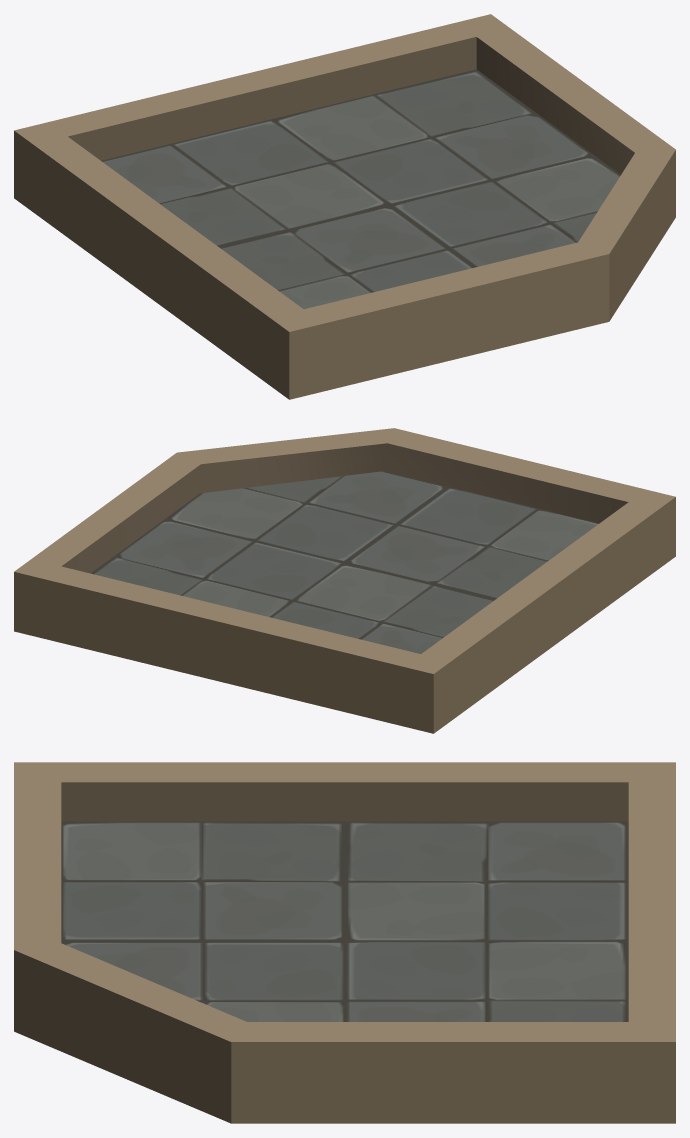
The model's file is RoofTop_B01.fbx.
3 views of the same model, one above another, from view 1: azimuth 30°, elevation 25°; view 2: azimuth 150°, elevation 25°; view 3: azimuth 270°, elevation 25° (orthographic). The views are drawn at different scales.
Parts seen in each view (by area): view 1: RoofTop_B01; view 2: RoofTop_B01; view 3: RoofTop_B01.
Boxes of the visible parts, x1,y1,x2,y2 form: RoofTop_B01: (14, 14, 675, 399); RoofTop_B01: (14, 428, 675, 733); RoofTop_B01: (14, 762, 675, 1123).
Size of the model in its own units: 607 by 82.56 by 607.
